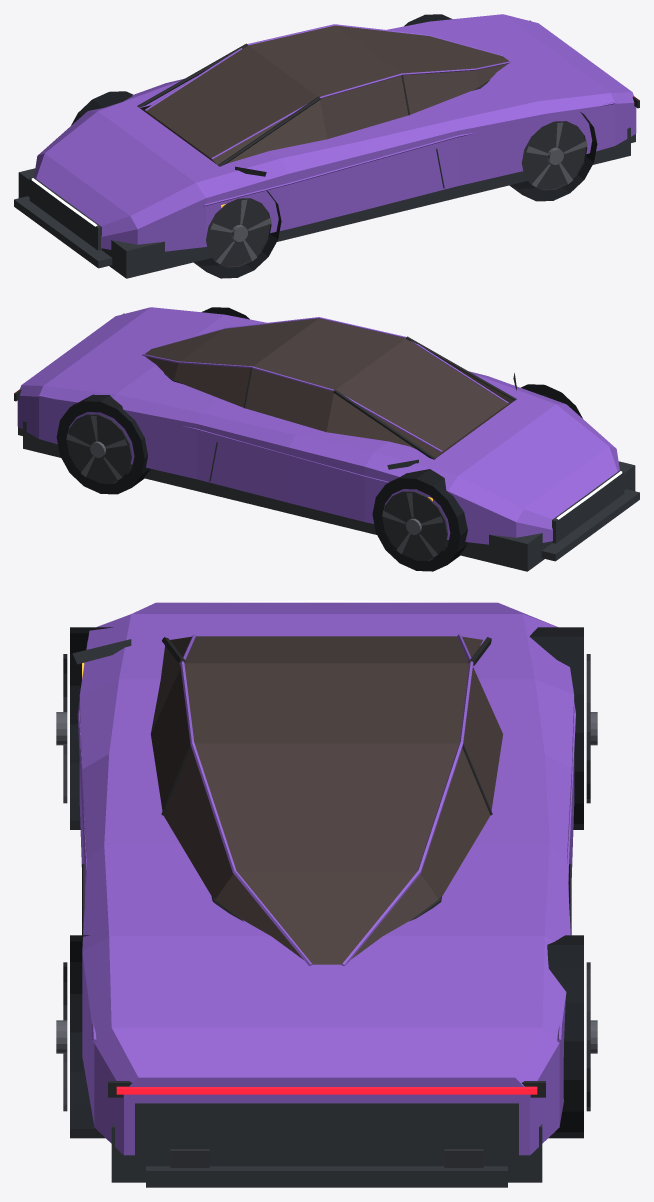
Rendered from roadster_09_purple.glb.
The picture shows the model from 3 angles, top to bottom: view 1: azimuth 30°, elevation 25°; view 2: azimuth 150°, elevation 25°; view 3: azimuth 270°, elevation 25°; orthographic projection. The views are drawn at different scales.
Parts seen in each view (by area): view 1: Web mesh - Ano White satin.007, Smoked panoramic canopy, Web mesh - Graphite lower aero.007, Web mesh - Hub center.007, Web mesh - Tire rubber.007, Web mesh - Wheel dark alloy.007, Web mesh - Dark window trim.007; view 2: Web mesh - Ano White satin.007, Smoked panoramic canopy, Web mesh - Graphite lower aero.007, Web mesh - Tire rubber.007, Web mesh - Hub center.007, Web mesh - Wheel dark alloy.007, Web mesh - Dark window trim.007; view 3: Web mesh - Ano White satin.007, Smoked panoramic canopy, Web mesh - Graphite lower aero.007, Web mesh - Tire rubber.007, Web mesh - Hub center.007, Web mesh - Rear light red.007, Web mesh - Dark window trim.007, Web mesh - Wheel dark alloy.007.
Part boxes in pixels (x1,y1,x2,y2): Web mesh - Ano White satin.007: (34, 14, 636, 251); Smoked panoramic canopy: (140, 25, 508, 164); Web mesh - Graphite lower aero.007: (14, 127, 635, 278); Web mesh - Hub center.007: (206, 121, 587, 267); Web mesh - Tire rubber.007: (71, 14, 597, 278); Web mesh - Wheel dark alloy.007: (210, 122, 587, 264); Web mesh - Dark window trim.007: (137, 20, 639, 166); Web mesh - Ano White satin.007: (17, 307, 619, 544); Smoked panoramic canopy: (145, 318, 514, 457); Web mesh - Graphite lower aero.007: (18, 373, 639, 571); Web mesh - Tire rubber.007: (56, 307, 582, 571); Web mesh - Hub center.007: (66, 395, 556, 560); Web mesh - Wheel dark alloy.007: (66, 395, 544, 557); Web mesh - Dark window trim.007: (14, 313, 516, 459); Web mesh - Ano White satin.007: (77, 602, 575, 1155); Smoked panoramic canopy: (150, 636, 503, 964); Web mesh - Graphite lower aero.007: (72, 639, 571, 1187); Web mesh - Tire rubber.007: (70, 627, 583, 1138); Web mesh - Hub center.007: (63, 654, 590, 1167); Web mesh - Rear light red.007: (116, 1086, 537, 1094); Web mesh - Dark window trim.007: (108, 637, 545, 1097); Web mesh - Wheel dark alloy.007: (56, 712, 597, 1053).
Bounding box in the file's own units: 5.05 × 1.21 × 2.21.
